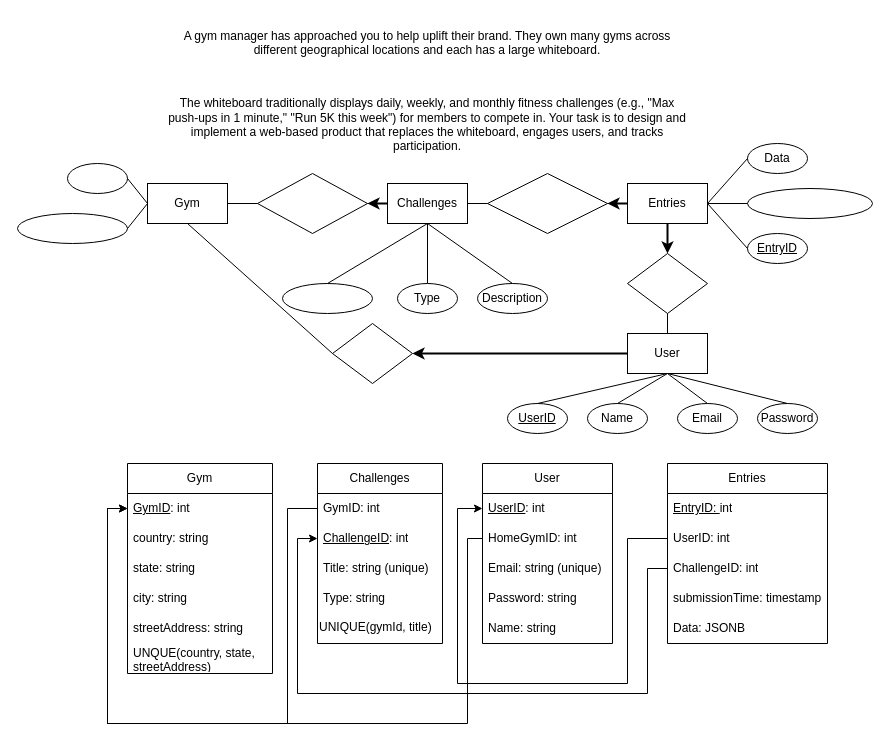
Some shapes in this 890 by 749 pixel diagram are drawn without their labels. Each missing label, with the box of its shape:
ChallengeEntries: (486, 172, 608, 234)
ChallengeID: (282, 282, 372, 314)
GymChallenges: (256, 172, 368, 234)
GymID: (66, 162, 128, 194)
HomeGym: (332, 322, 412, 384)
Location: unique: (16, 212, 128, 244)
submissionTime: (746, 188, 872, 218)
UserEntries: (626, 252, 708, 314)
